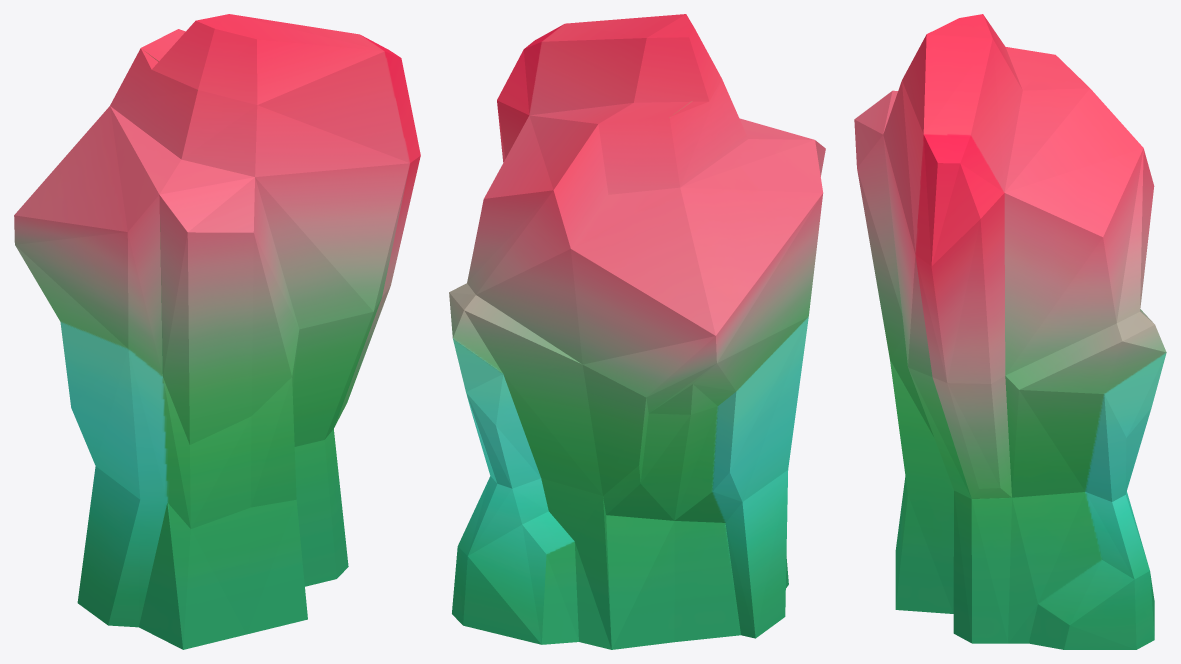
File: SM_APP_Lush_Cliff_D.glb
The picture shows the model from 3 angles, left to right: view 1: azimuth 30°, elevation 25°; view 2: azimuth 150°, elevation 25°; view 3: azimuth 270°, elevation 25°; orthographic projection. The views are drawn at different scales.
Parts seen in each view (by area): view 1: SM_APP_Lush_Cliff_D; view 2: SM_APP_Lush_Cliff_D; view 3: SM_APP_Lush_Cliff_D.
Part boxes in pixels (left/top/right/bottom): SM_APP_Lush_Cliff_D: left=14, top=14, right=420, bottom=649; SM_APP_Lush_Cliff_D: left=449, top=14, right=825, bottom=649; SM_APP_Lush_Cliff_D: left=854, top=14, right=1166, bottom=649.
Bounding box in the file's own units: 15.9 × 29.14 × 14.61.
1 material, 1 textured.
